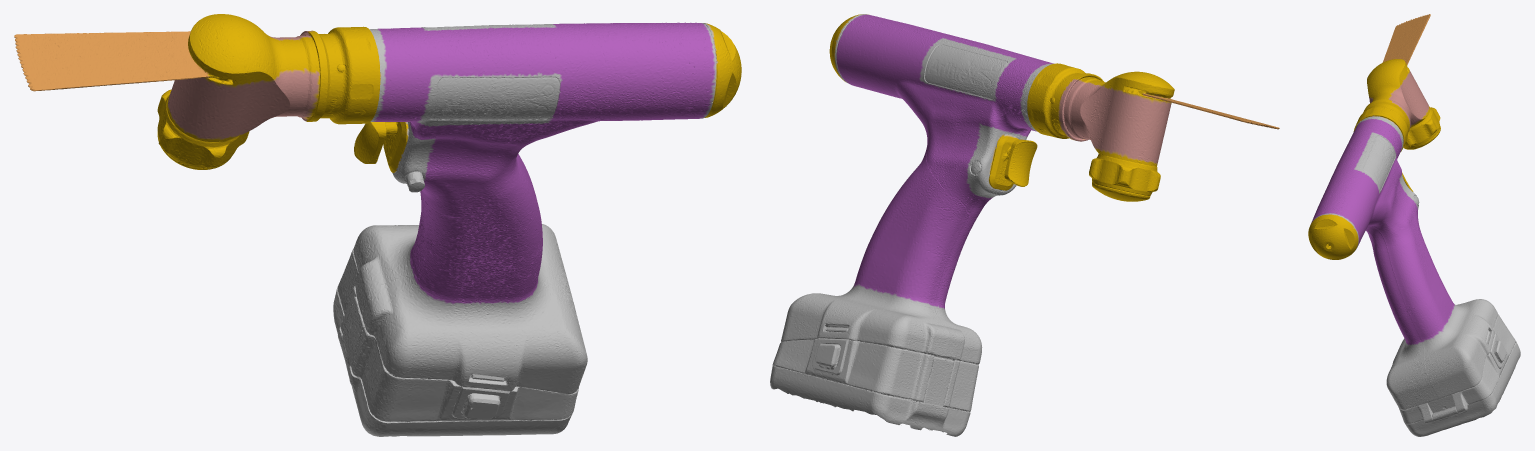
Rendered from taxonomy_22_merged.glb.
The picture shows the model from 3 angles, left to right: view 1: azimuth 30°, elevation 25°; view 2: azimuth 150°, elevation 25°; view 3: azimuth 270°, elevation 25°; orthographic projection. The views are drawn at different scales.
Parts seen in each view (by area): view 1: world; view 2: world; view 3: world.
Part boxes in pixels (<box>): world: <box>14,14,741,436</box>; world: <box>770,14,1279,436</box>; world: <box>1308,14,1520,436</box>.
Size of the model in its own units: 284 by 217 by 148.
